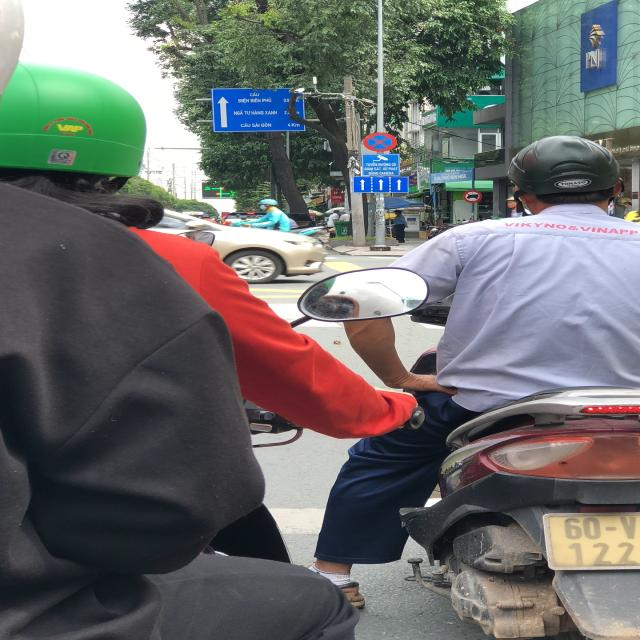Bien bao cam dung xe va do xe: (361, 131, 399, 152)
Bien bao cam xe oto tai: (462, 188, 484, 204)
